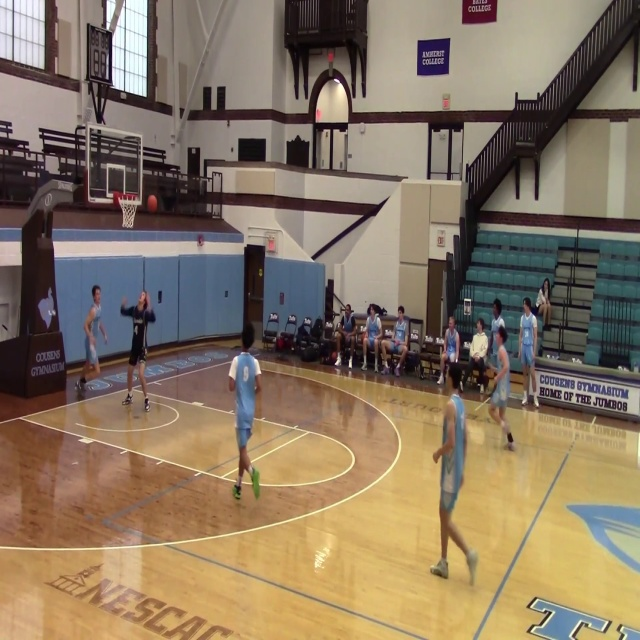Basketball: (146, 194, 158, 213)
